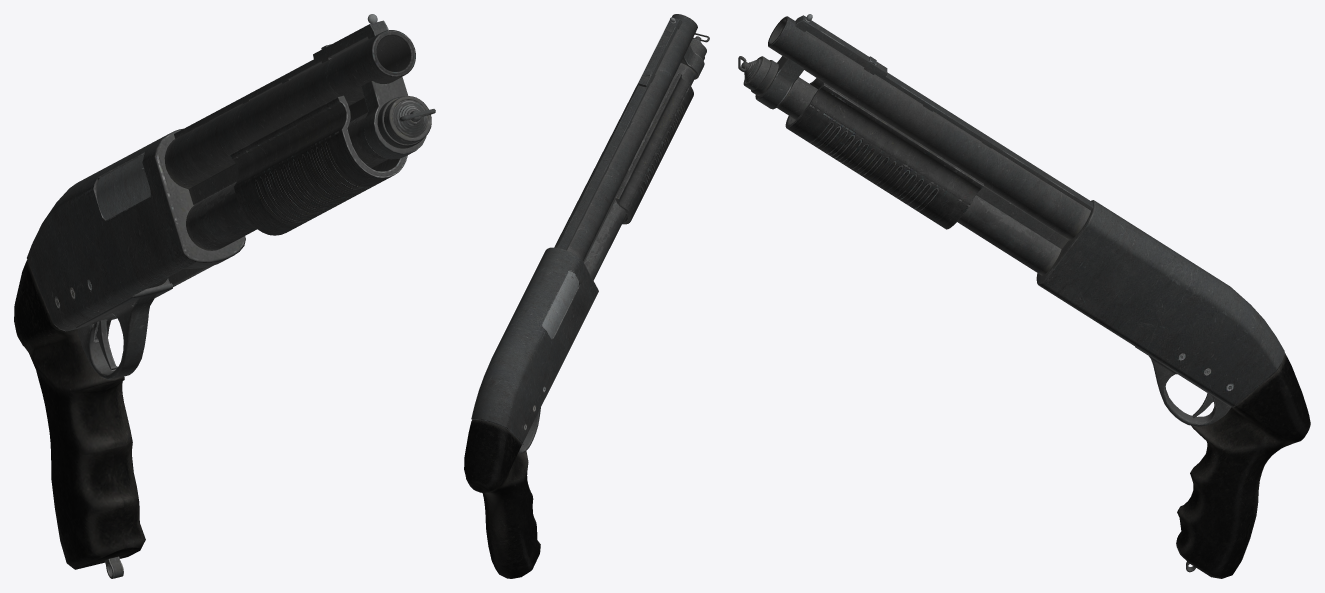
The model's file is mdlSluggerPickup Variant.fbx.
The picture shows the model from 3 angles, left to right: view 1: azimuth 30°, elevation 25°; view 2: azimuth 150°, elevation 25°; view 3: azimuth 270°, elevation 25°; orthographic projection. The views are drawn at different scales.
Visible parts, largest first — view 1: 24_+Additions|Remington M1100-P Barrel.barrelp_0.3_0_0, 24_reciever_0.3_0_0, Model; view 2: 24_+Additions|Remington M1100-P Barrel.barrelp_0.3_0_0, 24_reciever_0.3_0_0, Model; view 3: 24_+Additions|Remington M1100-P Barrel.barrelp_0.3_0_0, 24_reciever_0.3_0_0, Model.
Part boxes in pixels (x1,y1,x2,y2): 24_+Additions|Remington M1100-P Barrel.barrelp_0.3_0_0: (164,14,435,250); 24_reciever_0.3_0_0: (27,128,245,379); Model: (14,260,145,578); 24_+Additions|Remington M1100-P Barrel.barrelp_0.3_0_0: (554,14,709,280); 24_reciever_0.3_0_0: (471,247,598,453); Model: (464,420,540,578); 24_+Additions|Remington M1100-P Barrel.barrelp_0.3_0_0: (738,14,1093,275); 24_reciever_0.3_0_0: (1036,200,1284,426); Model: (1176,353,1310,578).
Size of the model in its own units: 14.34 by 160 by 148.
